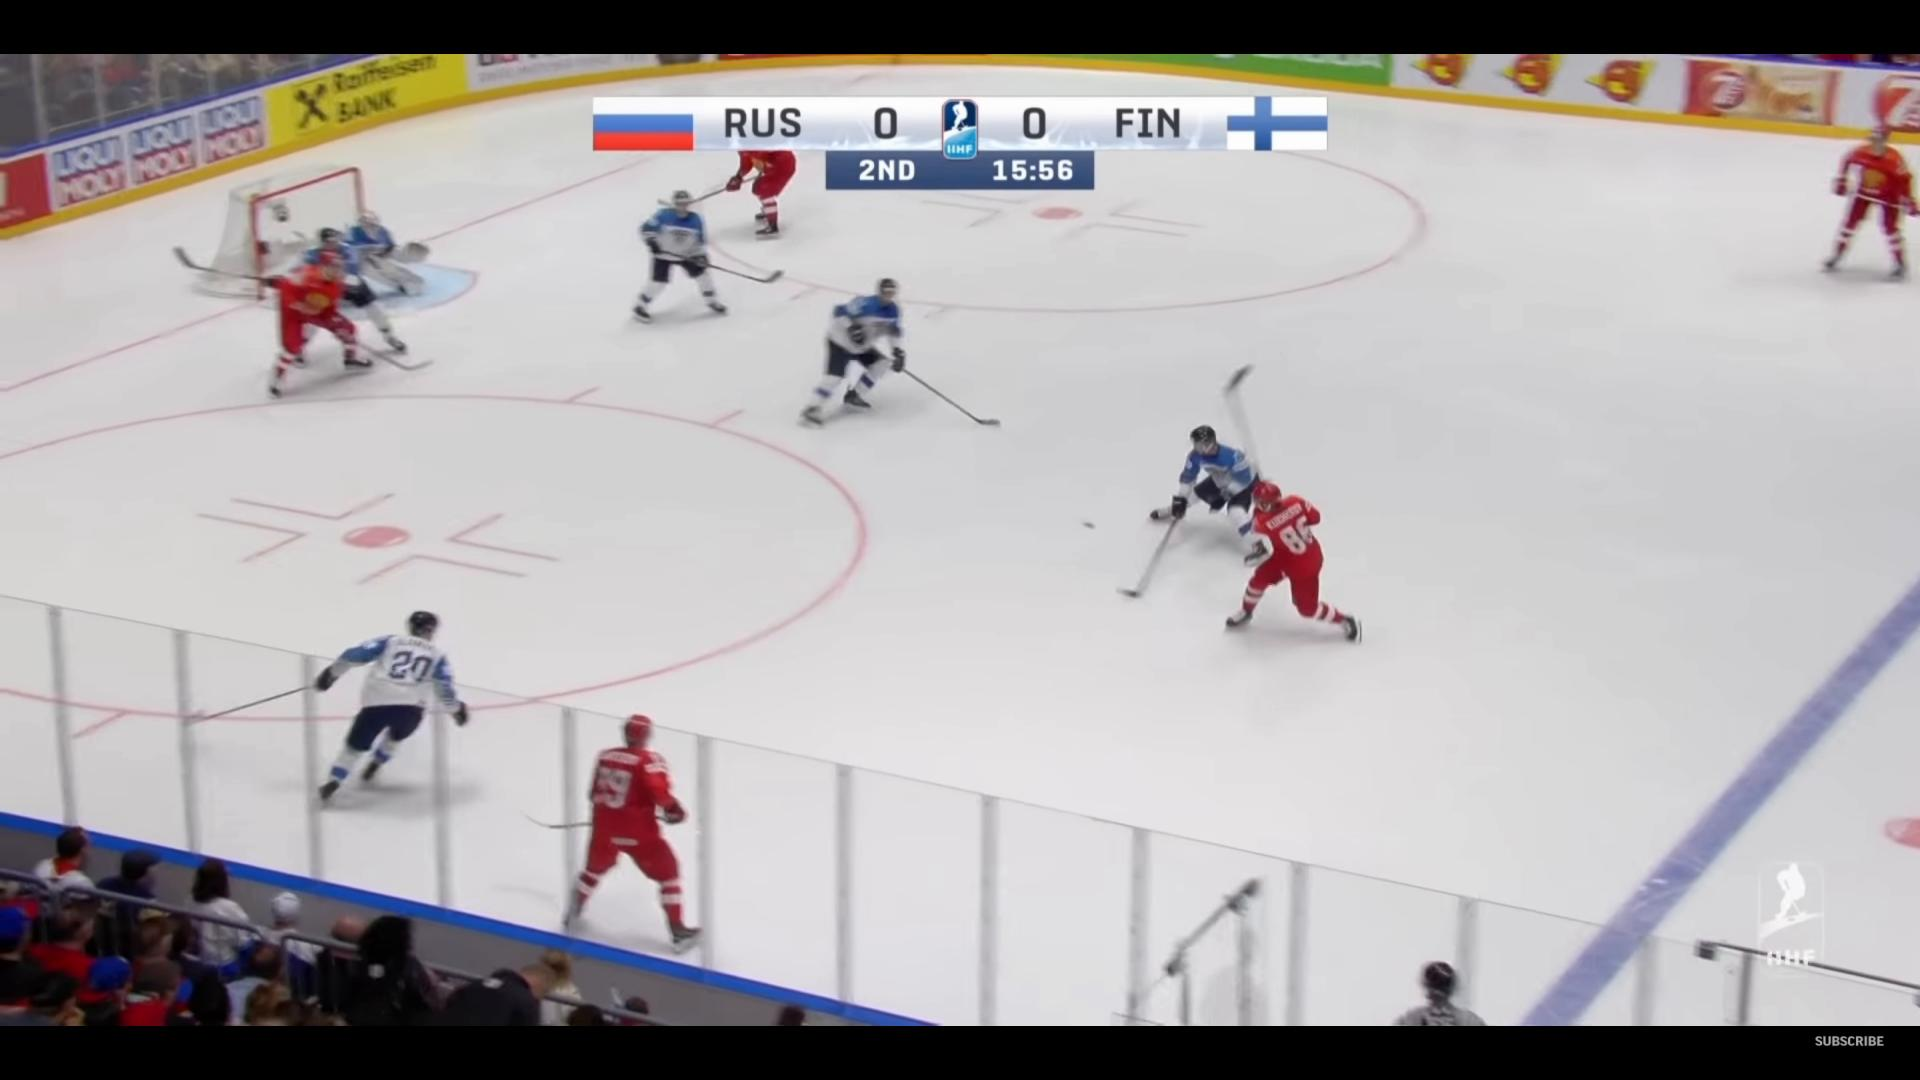puck: (1083, 520, 1097, 529)
